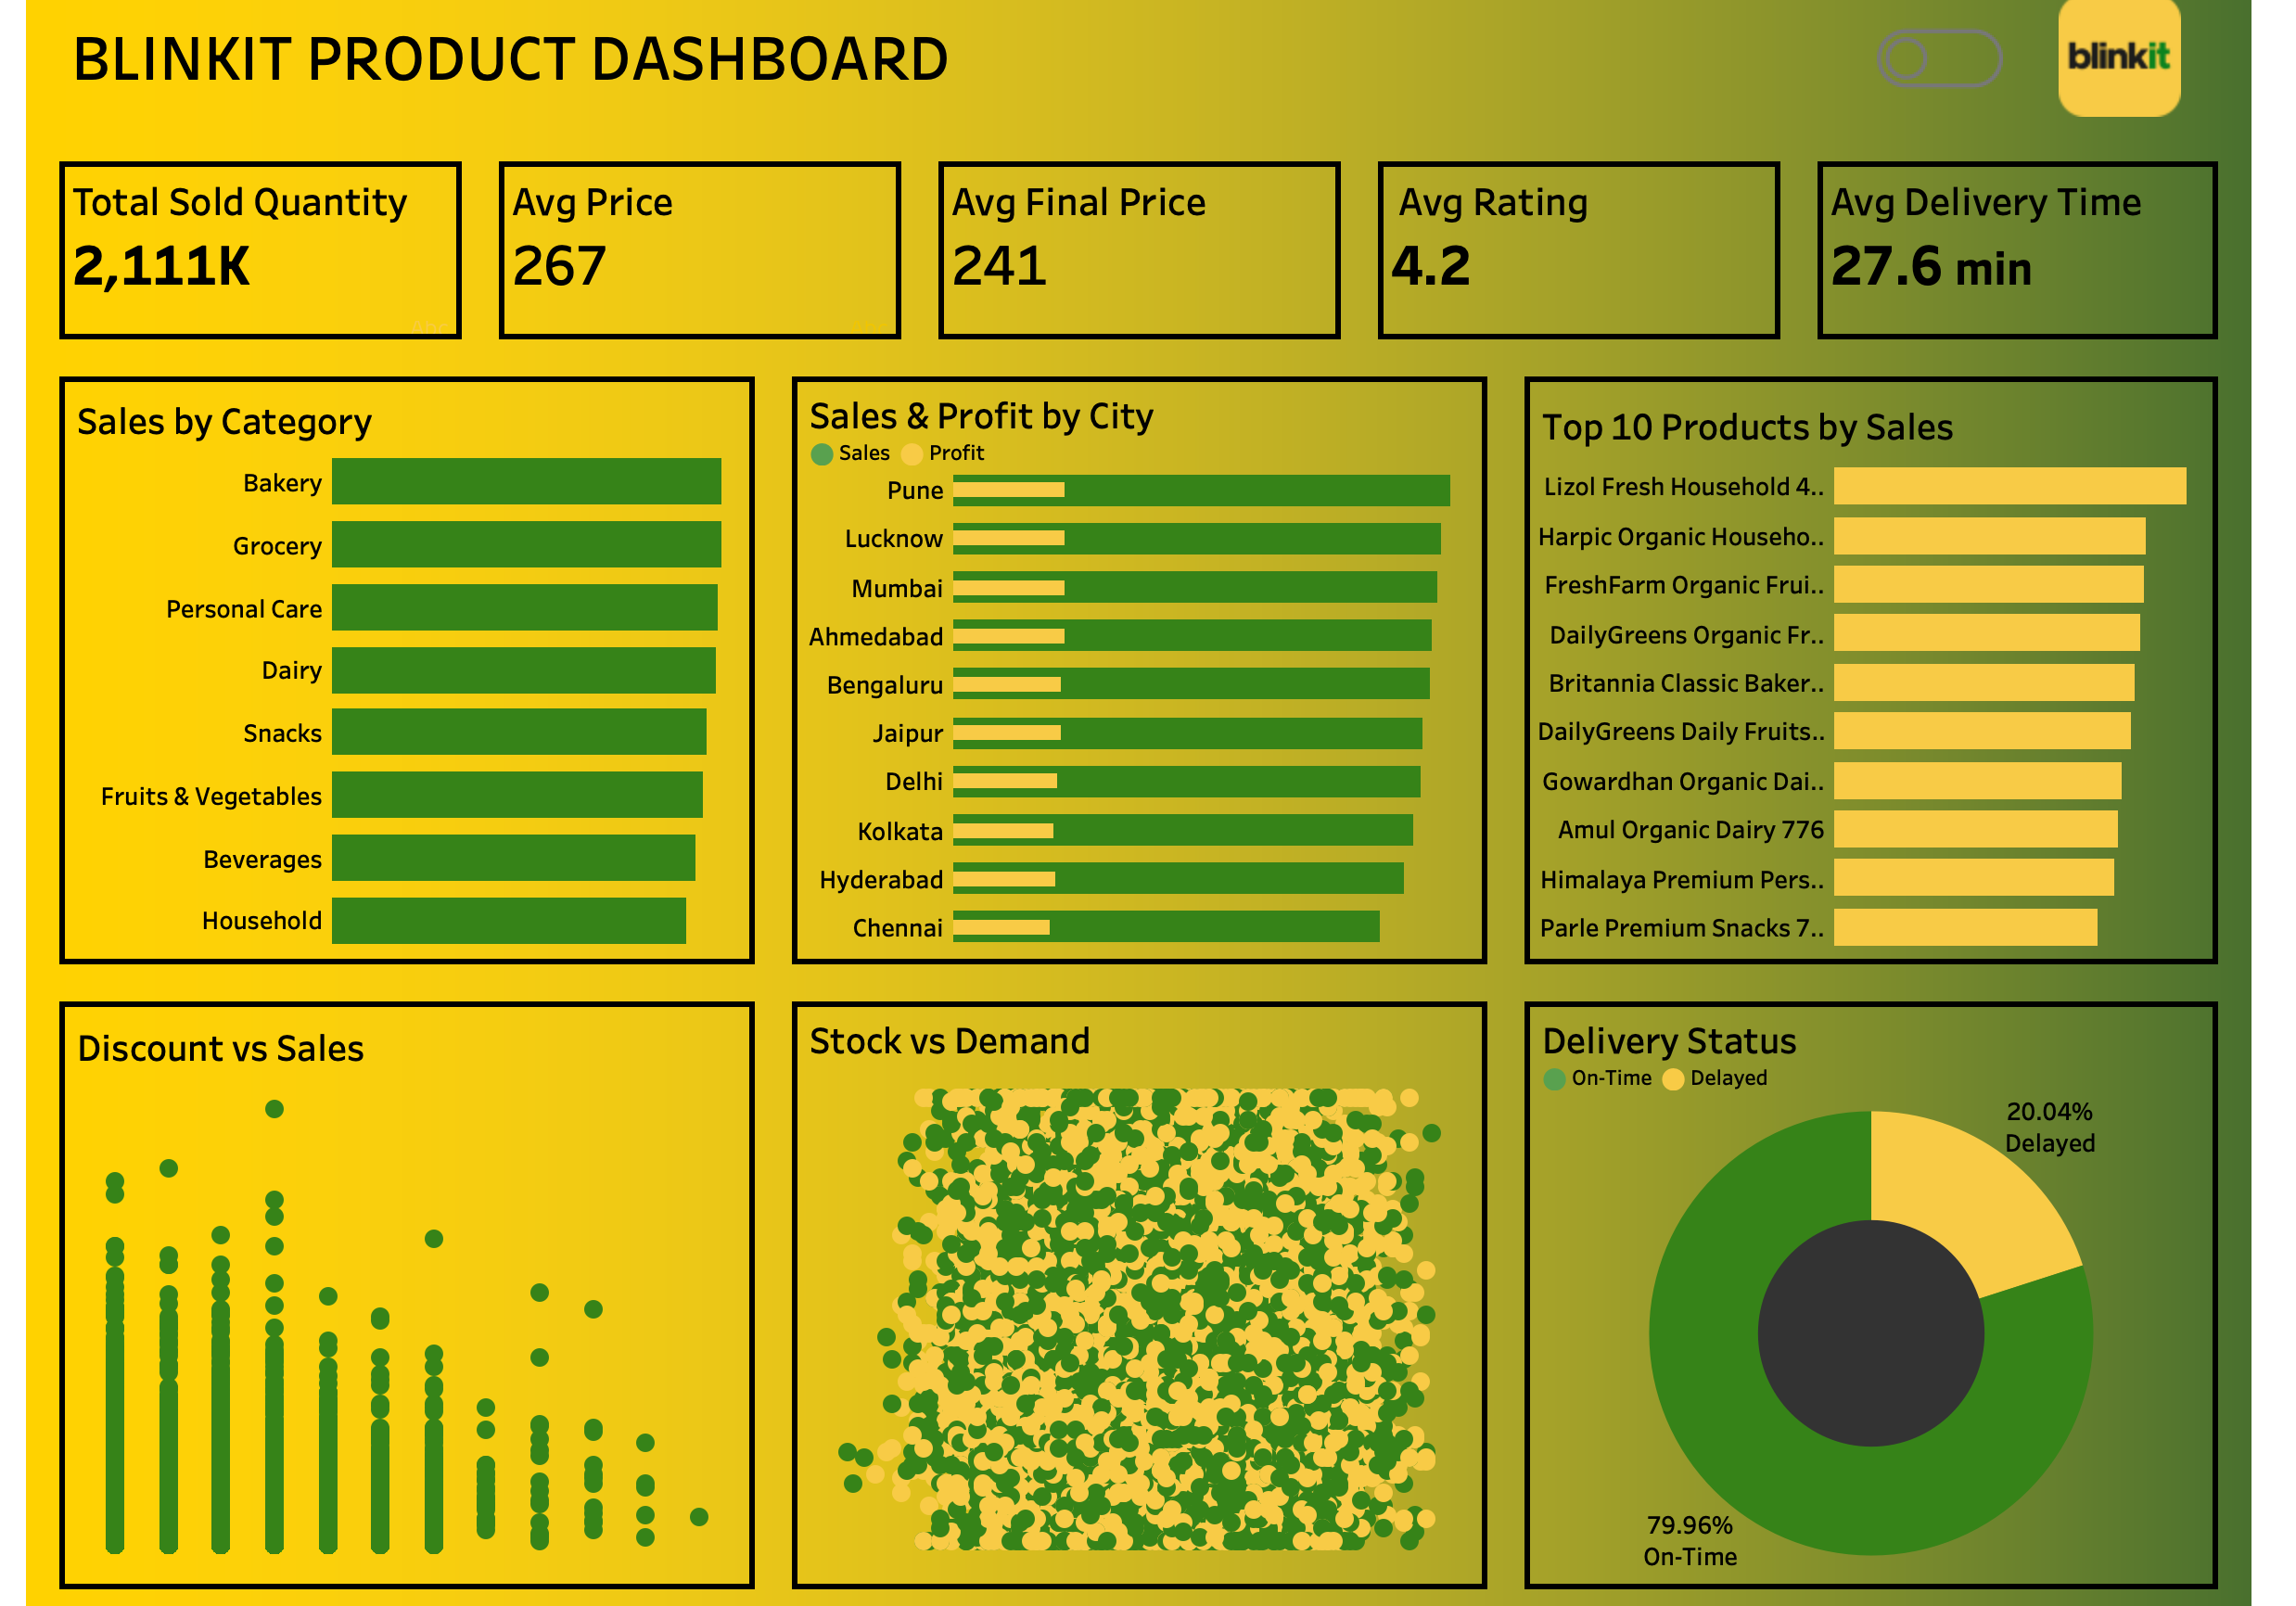

This screenshot's page, from the dashboard's own definition file:
{"tool":"tableau","page":{"name":"Blinkit DashBoard","canvas":[1200,900],"ordinal":0},"visuals":[{"type":"image","param":"Image/Blinkit_background_1200x900.png","box":[0,0,1200,900]},{"type":"text","box":[18,18,1059,74]},{"type":"image","param":"Image/blinkit-com-logo.png","box":[1077,18,105,74]},{"type":"filter","title":"Sales by Category","param":"[federated.0m77mg91yoekkk12dgzah0hpga7t].[none:category:nk]","box":[1023,19,158,52]},{"type":"dashboard-object","box":[997,21,70,70]},{"type":"filter","title":"Sales by City","param":"[federated.0m77mg91yoekkk12dgzah0hpga7t].[none:city:nk]","box":[1023,71,158,52]},{"type":"worksheet","title":"KPI - Total Sold","mark":"Automatic","box":[8,102,237,116]},{"type":"worksheet","title":"KPI - Avg Price","mark":"Automatic","box":[245,102,237,116]},{"type":"worksheet","title":"KPI - Average Final Price","mark":"Automatic","box":[482,102,237,116]},{"type":"worksheet","title":"KPI - Average Rating","mark":"Automatic","box":[719,102,237,116]},{"type":"worksheet","title":"KPI - Average Delivery Time","mark":"Automatic","box":[956,102,236,116]},{"type":"parameter","param":"[Parameters].[Parameter 4932667024334857]","box":[1023,123,158,52]},{"type":"filter","title":"Delivery Time Distribution ","param":"[federated.0m77mg91yoekkk12dgzah0hpga7t].[none:delivery_status:nk]","box":[1023,175,158,52]},{"type":"text","box":[21,231,369,37]},{"type":"text","box":[416,231,369,30]},{"type":"text","box":[811,231,368,43]},{"type":"text","box":[416,261,369,15]},{"type":"worksheet","title":"Sales by Category","mark":"Automatic","rows":["category"],"cols":["sold_quantity"],"box":[21,268,369,274]},{"type":"worksheet","title":"Top 10 Products","mark":"Bar","rows":["product_name"],"cols":["sold_quantity"],"box":[811,274,368,268]},{"type":"worksheet","title":"Sales by City","mark":"Bar","rows":["city"],"cols":["Calculation_5298393484029952","Calculation_4932667021910018"],"box":[416,276,369,265.9]},{"type":"text","box":[21,568,369,38]},{"type":"text","box":[416,568,369,30]},{"type":"text","box":[811,568,368,30]},{"type":"worksheet","title":"Stock by Demand ","mark":"Circle","rows":["demand_index"],"cols":["stock"],"box":[416,598,369,281]},{"type":"text","box":[811,598,368,15]},{"type":"worksheet","title":"Discount vs Sales","mark":"Circle","rows":["Calculation_5298393484029952"],"cols":["discount_pct"],"box":[21,606,369,273]},{"type":"worksheet","title":"Delivery Time Distribution ","mark":"Pie","cols":["Calculation_5298393511993353","Calculation_5298393511993353"],"box":[811,613,368,266]}]}

Visuals, with their boxes in screenshot pixels (x1, y1, x2, y2):
image: l=48, t=0, r=2240, b=1605
text: l=81, t=3, r=2016, b=138
image: l=2016, t=3, r=2208, b=138
"Sales by Category" filter: l=1917, t=5, r=2206, b=100
dashboard-object: l=1869, t=8, r=1997, b=136
"Sales by City" filter: l=1917, t=100, r=2206, b=195
"KPI - Total Sold" worksheet: l=62, t=157, r=495, b=368
"KPI - Avg Price" worksheet: l=495, t=157, r=928, b=368
"KPI - Average Final Price" worksheet: l=928, t=157, r=1361, b=368
"KPI - Average Rating" worksheet: l=1361, t=157, r=1794, b=368
"KPI - Average Delivery Time" worksheet: l=1794, t=157, r=2226, b=368
parameter: l=1917, t=195, r=2206, b=290
"Delivery Time Distribution " filter: l=1917, t=290, r=2206, b=385
text: l=86, t=392, r=760, b=460
text: l=808, t=392, r=1482, b=447
text: l=1530, t=392, r=2202, b=471
text: l=808, t=447, r=1482, b=475
"Sales by Category" worksheet: l=86, t=460, r=760, b=961
"Top 10 Products" worksheet (Bar marks): l=1530, t=471, r=2202, b=961
"Sales by City" worksheet (Bar marks): l=808, t=475, r=1482, b=961
text: l=86, t=1008, r=760, b=1077
text: l=808, t=1008, r=1482, b=1063
text: l=1530, t=1008, r=2202, b=1063
"Stock by Demand " worksheet (Circle marks): l=808, t=1063, r=1482, b=1576
text: l=1530, t=1063, r=2202, b=1090
"Discount vs Sales" worksheet (Circle marks): l=86, t=1077, r=760, b=1576
"Delivery Time Distribution " worksheet (Pie marks): l=1530, t=1090, r=2202, b=1576
